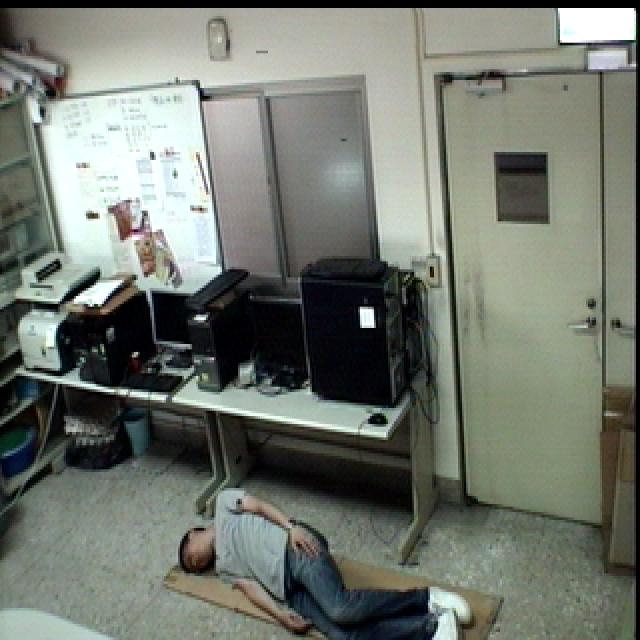lie: (168, 482, 482, 640)
